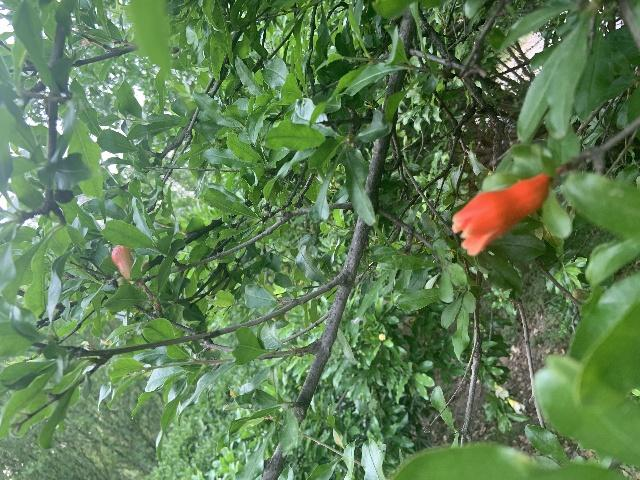bud: (111, 244, 134, 277)
flower: (452, 174, 550, 255)
